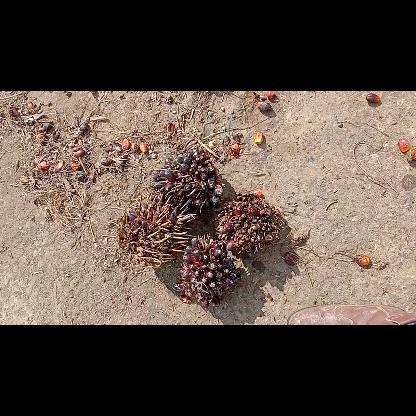TBS abnormal: (119, 194, 190, 266), (150, 148, 222, 212), (178, 234, 242, 306), (214, 193, 284, 255)
